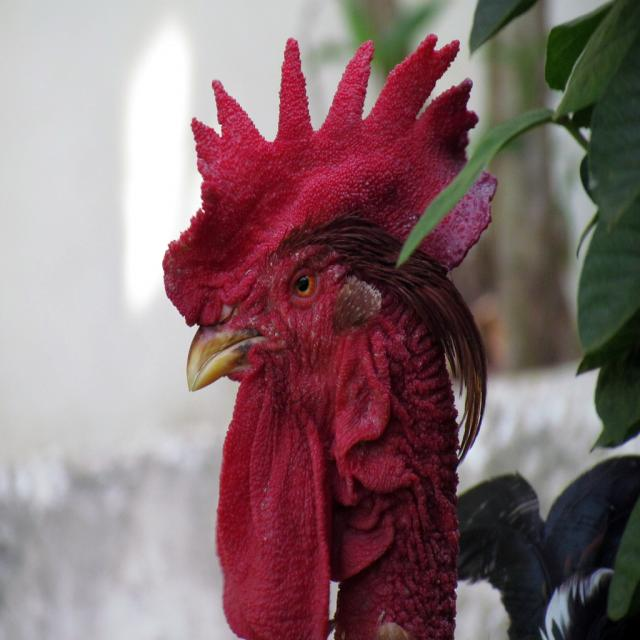Chicken: (162, 33, 640, 640)
